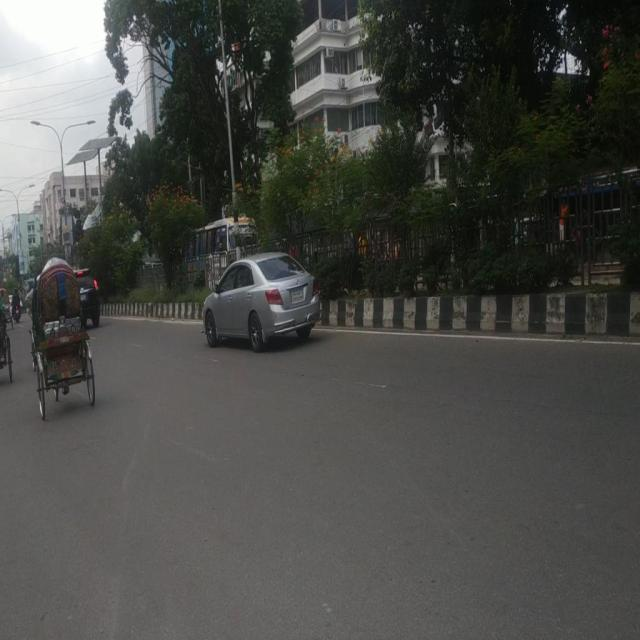silver: (198, 253, 325, 340)
